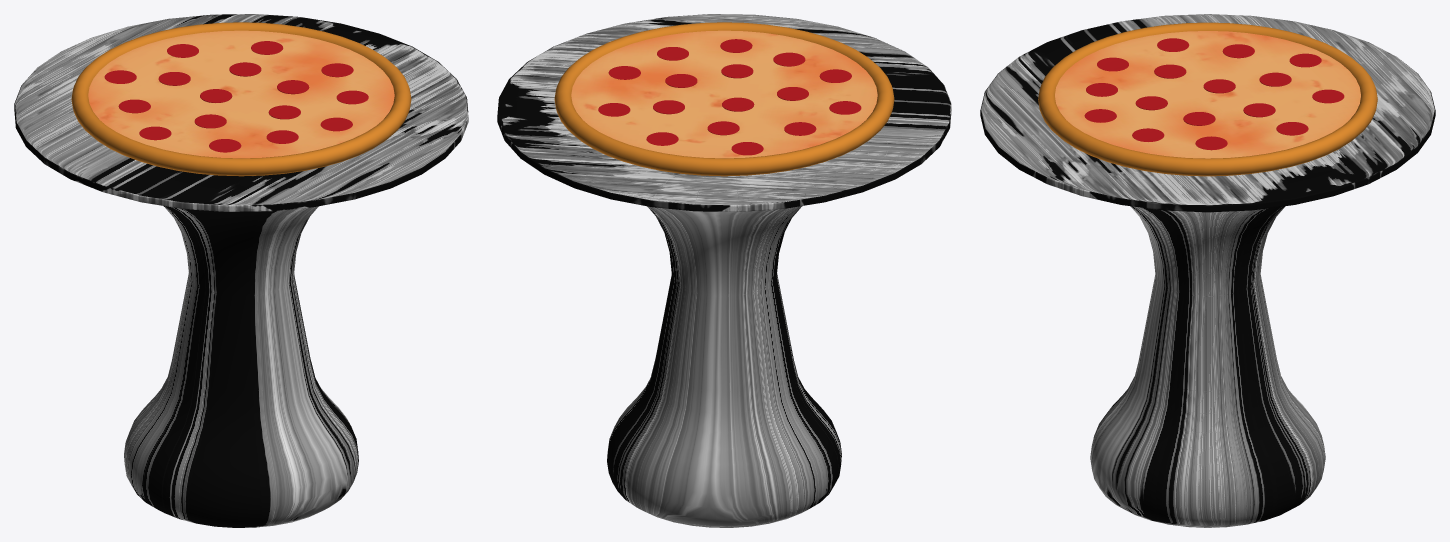
The model's file is saviorPizza.glb.
The picture shows the model from 3 angles, left to right: view 1: azimuth 30°, elevation 25°; view 2: azimuth 150°, elevation 25°; view 3: azimuth 270°, elevation 25°; orthographic projection.
Visible parts, largest first — view 1: Cylinder.017, Cylinder, Torus; view 2: Cylinder.017, Cylinder, Torus; view 3: Cylinder.017, Cylinder, Torus.
Part boxes in pixels (<box>): Cylinder.017: <box>14,14,468,527</box>; Cylinder: <box>88,30,394,158</box>; Torus: <box>71,22,411,176</box>; Cylinder.017: <box>497,14,951,527</box>; Cylinder: <box>571,30,877,158</box>; Torus: <box>554,22,894,176</box>; Cylinder.017: <box>980,14,1435,527</box>; Cylinder: <box>1055,31,1360,158</box>; Torus: <box>1038,22,1377,176</box>.
Bounding box in the file's own units: 1.27 × 1.23 × 1.27.
4 materials, 2 textured.
